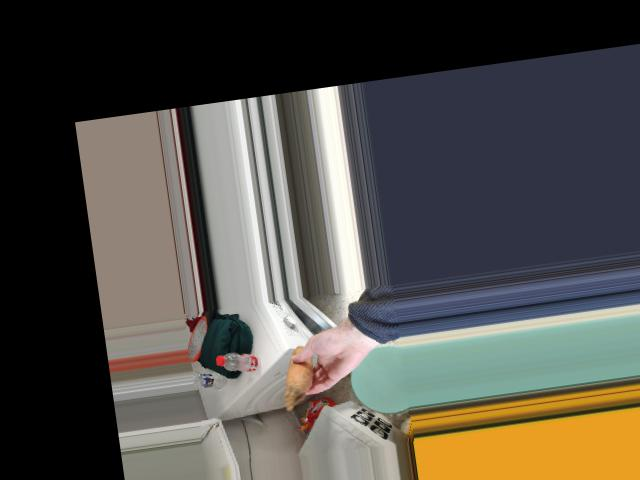sweet_potato: (282, 351, 314, 393)
